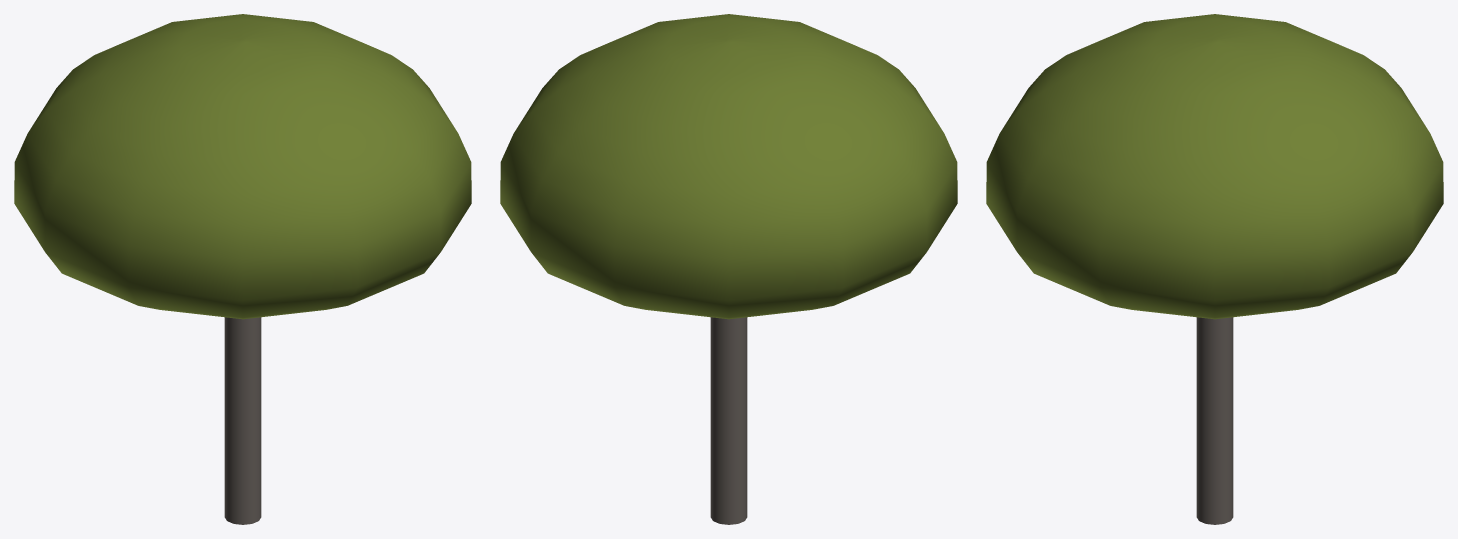
The model's file is Umbrella_Acacia_Analytical_0.obj.
3 renders of one model, left to right at view 1: azimuth 30°, elevation 25°; view 2: azimuth 150°, elevation 25°; view 3: azimuth 270°, elevation 25°, orthographic.
Parts seen in each view (by area): view 1: AnalyticalCrown, AnalyticalTrunk; view 2: AnalyticalCrown, AnalyticalTrunk; view 3: AnalyticalCrown, AnalyticalTrunk.
Part boxes in pixels (x1=…): AnalyticalCrown: x1=14, y1=14, x2=471, y2=319; AnalyticalTrunk: x1=224, y1=317, x2=261, y2=524; AnalyticalCrown: x1=500, y1=14, x2=957, y2=319; AnalyticalTrunk: x1=710, y1=317, x2=747, y2=524; AnalyticalCrown: x1=986, y1=14, x2=1443, y2=319; AnalyticalTrunk: x1=1196, y1=317, x2=1233, y2=524.
Bounding box in the file's own units: 8.7 × 10 × 8.7.
